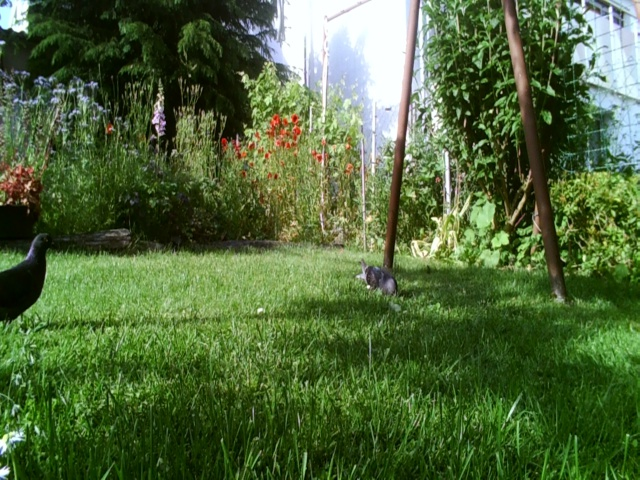Pigeon: (1, 231, 66, 320), (349, 254, 399, 299)
